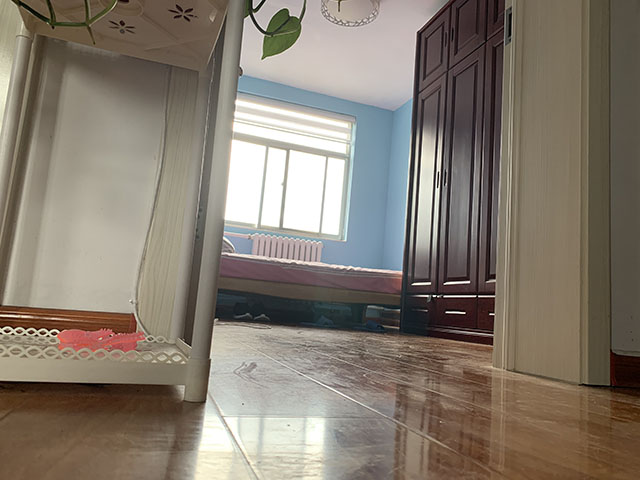bed: (218, 235, 403, 326)
cabinet: (397, 1, 506, 347)
slippers: (347, 320, 389, 334), (298, 314, 336, 328)
